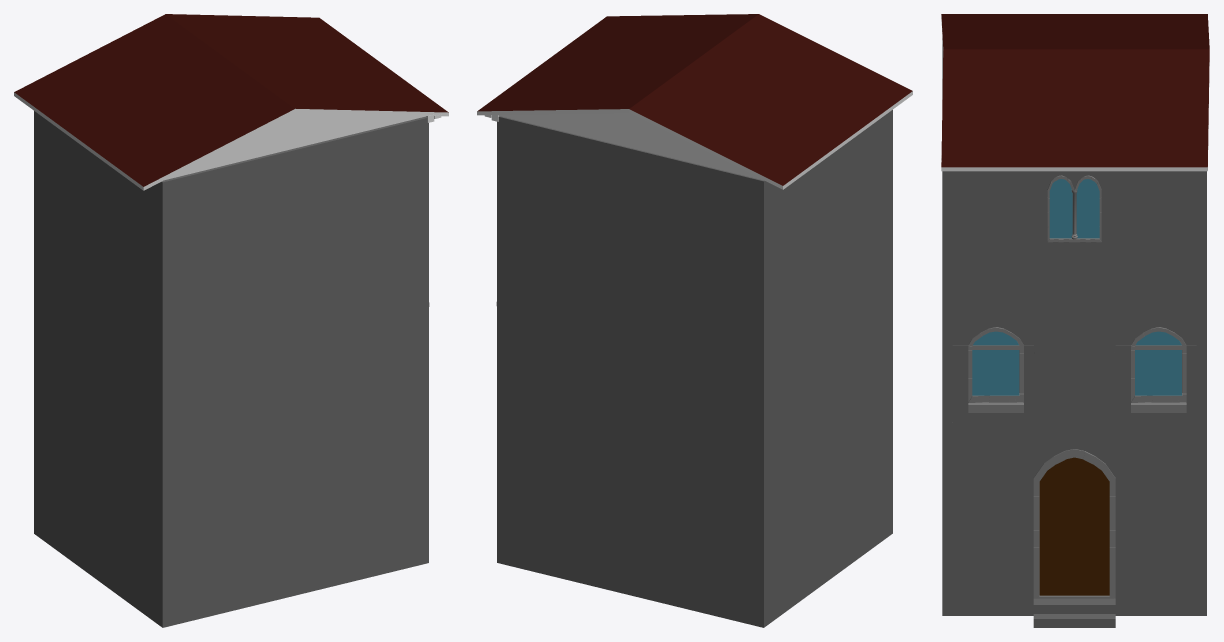
File: Maison1.gltf
3 renders of one model, left to right at view 1: azimuth 30°, elevation 25°; view 2: azimuth 150°, elevation 25°; view 3: azimuth 270°, elevation 25°, orthographic. The views are drawn at different scales.
Visible parts, largest first — view 1: Maison, Cube.002; view 2: Maison, Cube.002; view 3: Maison, Cube.002, PorteEscalier, EmplacementPorte, FenêtreCourbRebord.001, FenêtreCourbRebord, EmpacementFenêtreCourb, EmpacementFenêtreCourb.001, EmplacementFenêtreDouble, FenetreCaro.
Boxes of the visible parts, x1,y1,x2,y2 form: Maison: (34,111,429,627); Cube.002: (14,14,448,190); Maison: (496,110,892,627); Cube.002: (477,14,912,189); Maison: (942,38,1206,615); Cube.002: (941,14,1209,171); PorteEscalier: (1033,449,1115,627); EmplacementPorte: (1011,438,1137,615); FenêtreCourbRebord.001: (968,327,1023,412); FenêtreCourbRebord: (1131,327,1186,412); EmpacementFenêtreCourb: (1115,320,1196,422); EmpacementFenêtreCourb.001: (952,320,1033,422); EmplacementFenêtreDouble: (1034,171,1114,268); FenetreCaro: (1047,175,1101,242).
Size of the model in its own units: 5.82 by 8.74 by 4.25.
